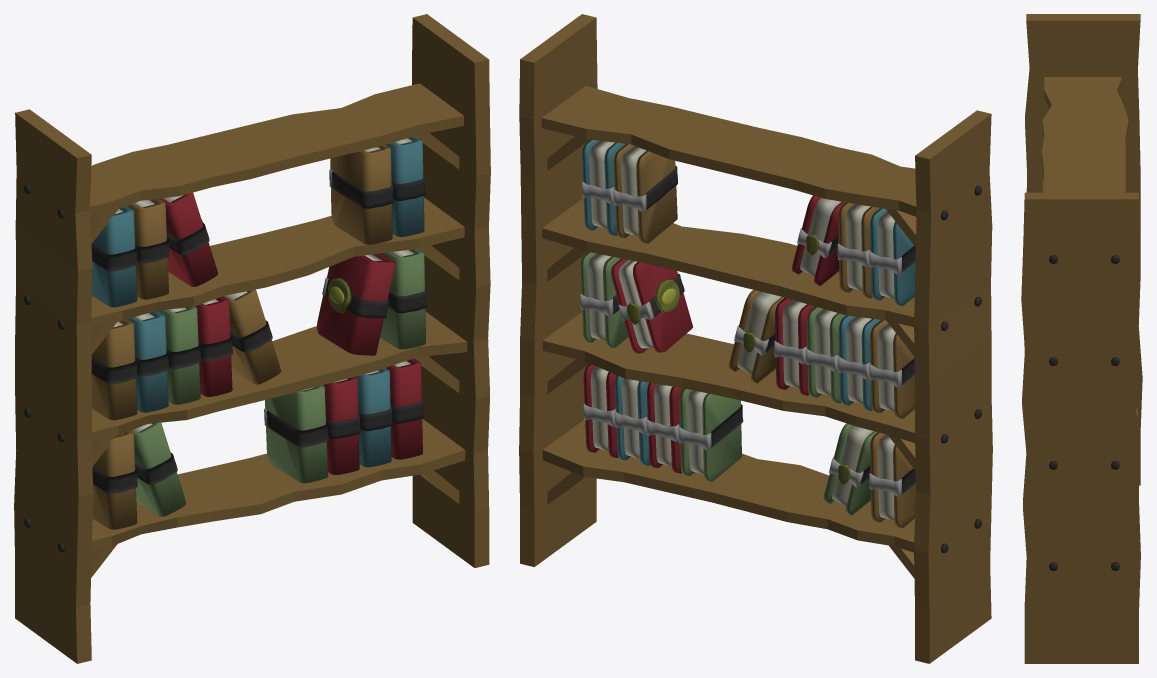
Rendered from kitaplik.fbx.
The picture shows the model from 3 angles, left to right: view 1: azimuth 30°, elevation 25°; view 2: azimuth 150°, elevation 25°; view 3: azimuth 270°, elevation 25°; orthographic projection. The views are drawn at different scales.
Visible parts, largest first — view 1: Cube.305; view 2: Cube.305; view 3: Cube.305.
Part boxes in pixels (x1=…): Cube.305: x1=14, y1=14, x2=490, y2=663; Cube.305: x1=519, y1=14, x2=992, y2=663; Cube.305: x1=1021, y1=14, x2=1142, y2=663.
Size of the model in its own units: 151 by 175 by 41.3.
